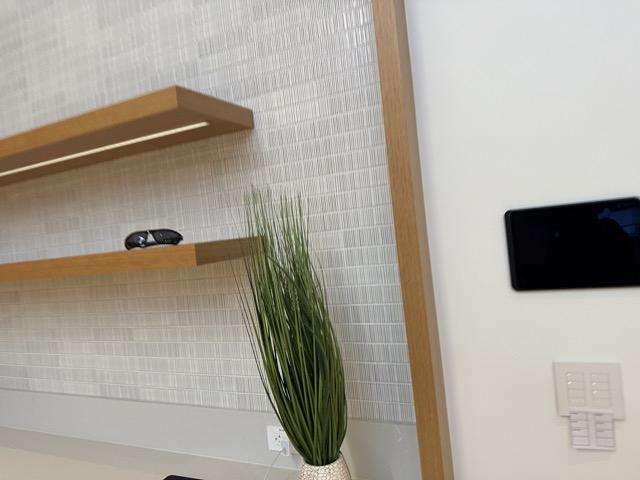Sunglasses: (125, 228, 183, 249)
